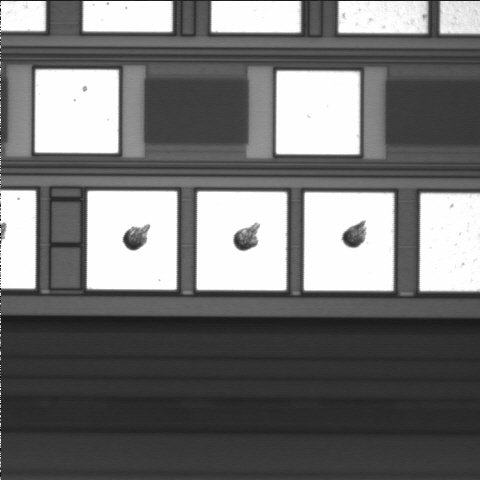pad: (87, 191, 177, 290), (304, 192, 394, 291), (197, 192, 287, 290), (35, 70, 119, 153), (276, 71, 360, 154)
